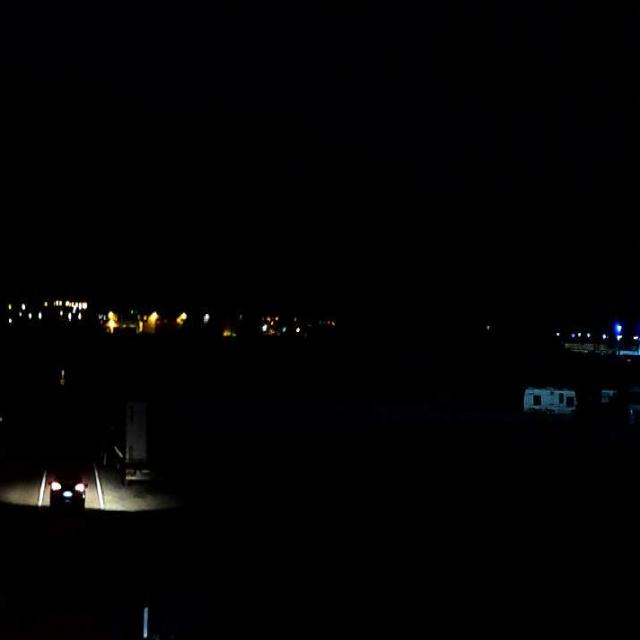bus: (0, 585, 149, 640)
car: (50, 466, 86, 510)
